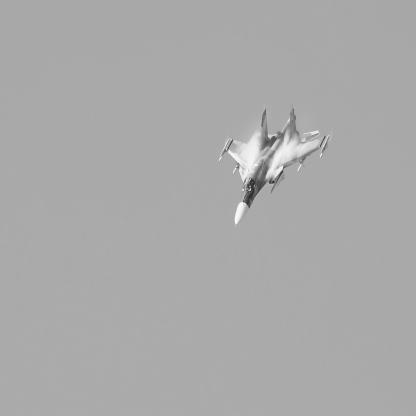Su34: (219, 104, 331, 229)
